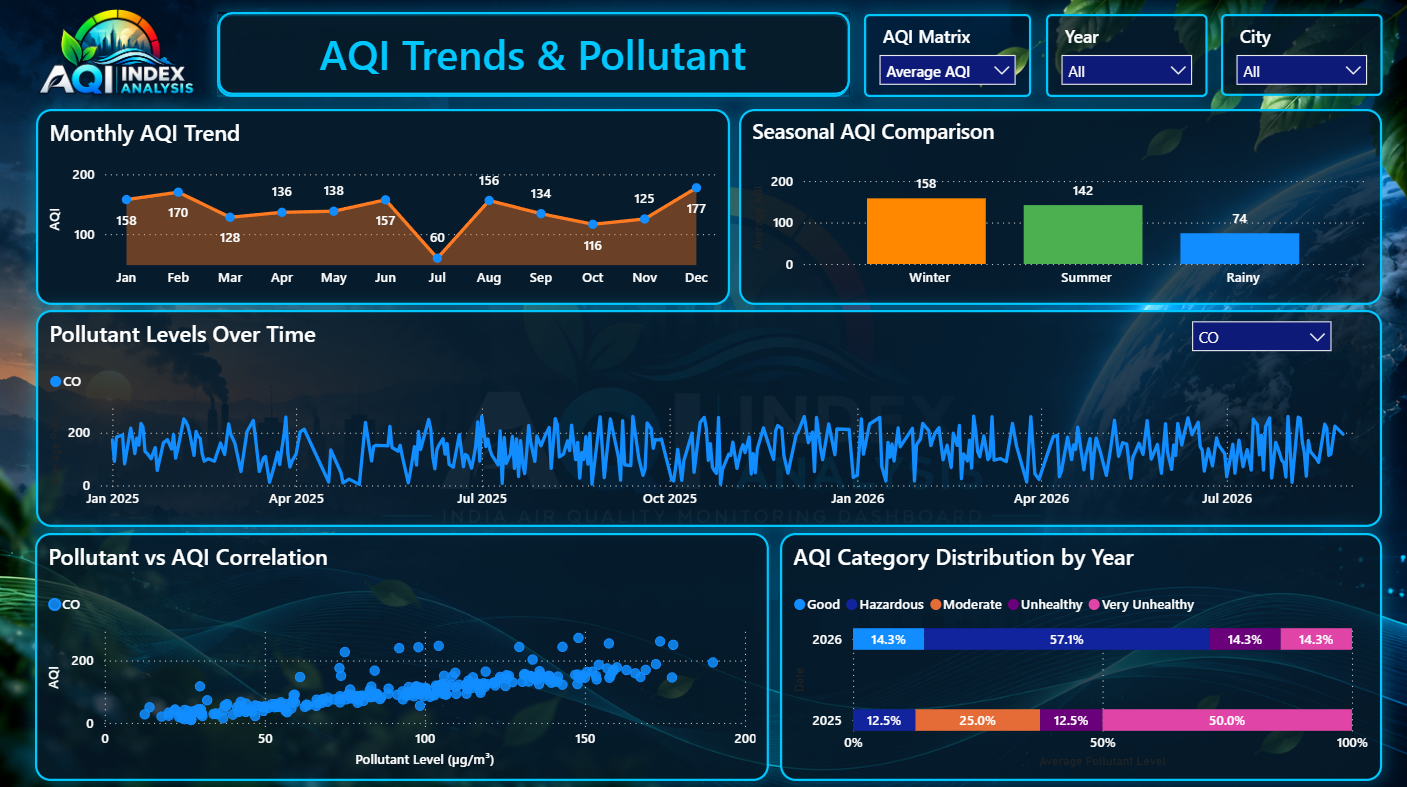

What the dashboard file says about the page in this screenshot:
{"tool":"powerbi","page":{"name":"AQI Trends & Pollutant Analysis","canvas":[1280,720],"ordinal":1},"visuals":[{"type":"shape","box":[199,15,570.9,74.9],"z":0},{"type":"shape","box":[200,14,570.9,74.9],"z":1000},{"type":"image","box":[0,0,213,99.2],"z":2000},{"type":"slicer","fields":{"Values":["Dim_Date.Year"]},"box":[948,15,146,75],"z":3000},{"type":"textbox","title":"AQI Trends & Pollutant Analysis","box":[232,26,503.8,50.6],"z":4000},{"type":"slicer","title":"City","fields":{"Values":["Dim_Location.city"]},"box":[1106,15,146,74],"z":5000},{"type":"lineChart","title":"Monthly AQI Trend","fields":{"Category":["Dim_Date.Month Name"],"Y":["Fact_AQI.Average AQI"]},"box":[35,101.1,627.4,177],"z":6000},{"type":"clusteredColumnChart","title":"Seasonal AQI Comparison","fields":{"Category":["Dim_Date.Season"],"Y":["Fact_AQI.Average AQI"]},"box":[670.2,101.2,580.7,177],"z":7000},{"type":"slicer","fields":{"Values":["AQI Metric.AQI Metric"]},"box":[783,15,151,75],"z":8000},{"type":"lineChart","title":"Pollutant Levels Over Time","fields":{"Category":["Dim_Date.Date"],"Series":["Dim_Pollutant.pollutant_id"],"Y":["Fact_AQI.Average Pollutant Level"]},"box":[35,283,1215.8,195.5],"z":9000},{"type":"slicer","fields":{"Values":["Dim_Pollutant.pollutant_id"]},"box":[1069.9,281.1,145.9,71],"z":10000},{"type":"scatterChart","title":"Pollutant vs AQI Correlation","fields":{"Category":["Fact_AQI.city"],"Series":["Dim_Pollutant.pollutant_id"],"X":["Avg(Fact_AQI.pollutant_avg)"],"Y":["Avg(Fact_AQI.AQI)"]},"box":[34,484.4,663.3,223.7],"z":11000},{"type":"hundredPercentStackedBarChart","title":"AQI Category Distribution by Year","fields":{"Category":["Dim_Date.Year"],"Series":["Fact_AQI.AQI_Bucket"],"Y":["Fact_AQI.Total Records"]},"box":[707.1,484.4,543.7,223.7],"z":12000}]}

Visuals, with their boxes in screenshot pixels (x1, y1, x2, y2), scaled from the page's 1280x720 canvas onto the 1407x787 screenshot:
shape: <box>219,16,846,98</box>
shape: <box>220,15,847,97</box>
image: <box>0,0,234,108</box>
slicer - Dim_Date.Year: <box>1042,16,1203,98</box>
"AQI Trends & Pollutant Analysis" textbox: <box>255,28,809,84</box>
"City" slicer: <box>1216,16,1376,97</box>
"Monthly AQI Trend" lineChart: <box>38,111,728,304</box>
"Seasonal AQI Comparison" clusteredColumnChart: <box>737,111,1375,304</box>
slicer - AQI Metric.AQI Metric: <box>861,16,1027,98</box>
"Pollutant Levels Over Time" lineChart: <box>38,309,1375,523</box>
slicer - Dim_Pollutant.pollutant_id: <box>1176,307,1336,385</box>
"Pollutant vs AQI Correlation" scatterChart: <box>37,529,766,774</box>
"AQI Category Distribution by Year" hundredPercentStackedBarChart: <box>777,529,1375,774</box>
